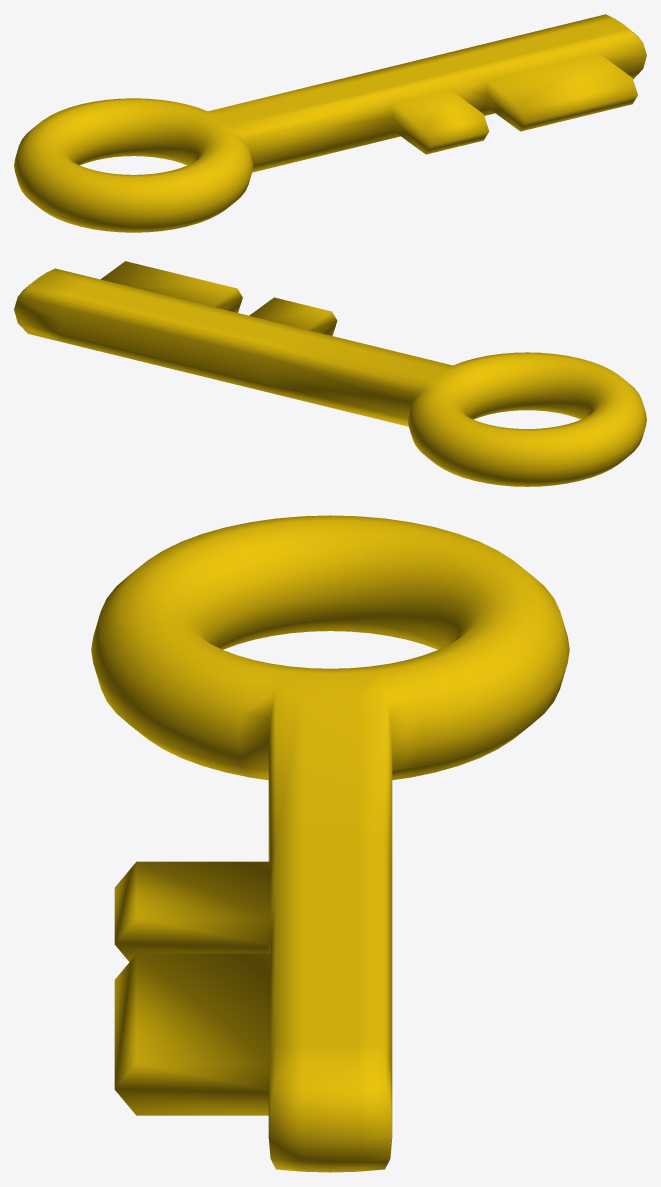
Rendered from Key.fbx.
3 renders of one model, top to bottom at view 1: azimuth 30°, elevation 25°; view 2: azimuth 150°, elevation 25°; view 3: azimuth 270°, elevation 25°, orthographic. The views are drawn at different scales.
Parts seen in each view (by area): view 1: Key; view 2: Key; view 3: Key.
Part boxes in pixels (x1=…): Key: x1=14, y1=14, x2=646, y2=232; Key: x1=14, y1=261, x2=646, y2=486; Key: x1=91, y1=515, x2=569, y2=1172.
Bounding box in the file's own units: 1.45 × 0.4981 × 0.1207.
